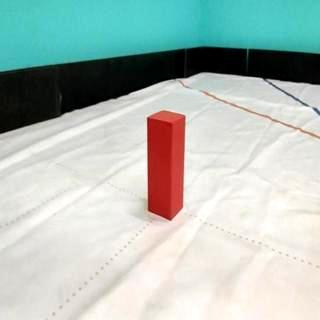redbox: (146, 110, 186, 222)
